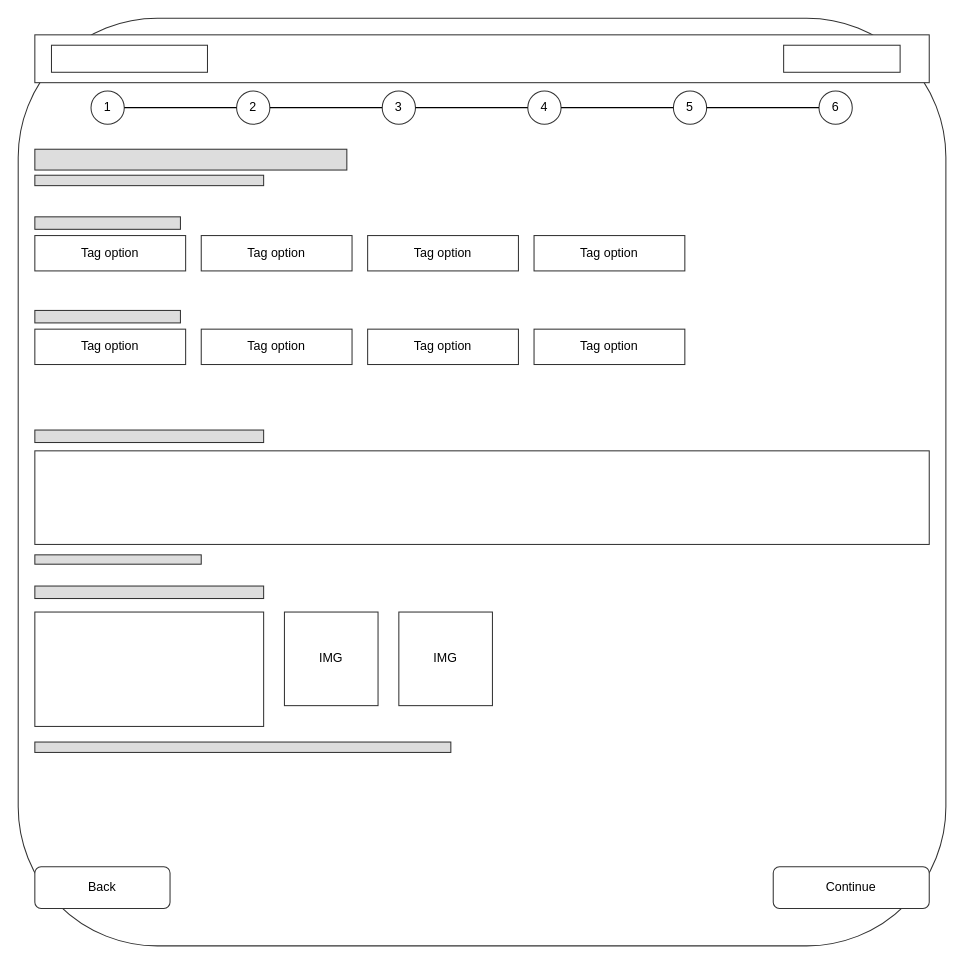
This 964x964 diagram has some shape labels left out. The centre of each missing label's shape, as x and y in pixels:
"Click to upload photo" belongs at pixel 149 668.
"Save & exit" belongs at pixel 841 58.
"THREADCRAFT · Design Wizard" belongs at pixel 128 58.
